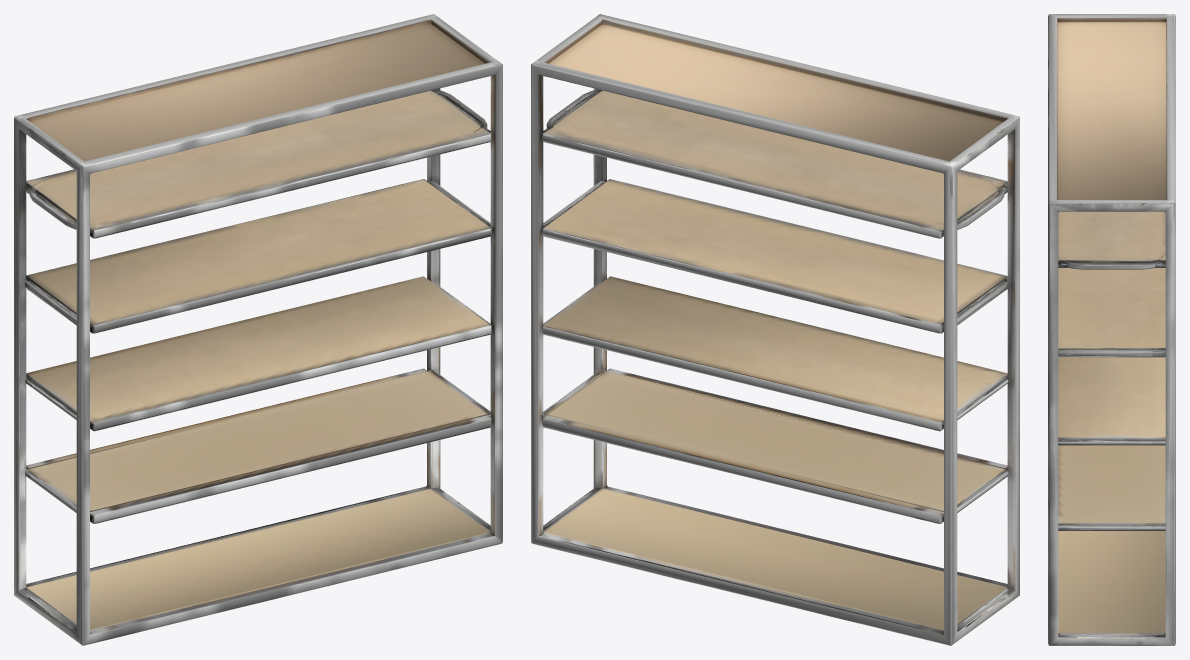
The model's file is white_back_bar_0127182637_texture.glb.
3 views of the same model, side by side, from view 1: azimuth 30°, elevation 25°; view 2: azimuth 150°, elevation 25°; view 3: azimuth 270°, elevation 25° (orthographic). The views are drawn at different scales.
Parts seen in each view (by area): view 1: Mesh_0; view 2: Mesh_0; view 3: Mesh_0.
Boxes of the visible parts, x1=… form: Mesh_0: x1=14, y1=14, x2=502, y2=645; Mesh_0: x1=531, y1=14, x2=1019, y2=645; Mesh_0: x1=1048, y1=14, x2=1175, y2=645.
Bounding box in the file's own units: 1.68 × 1.83 × 0.4769.
1 material, 1 textured.
